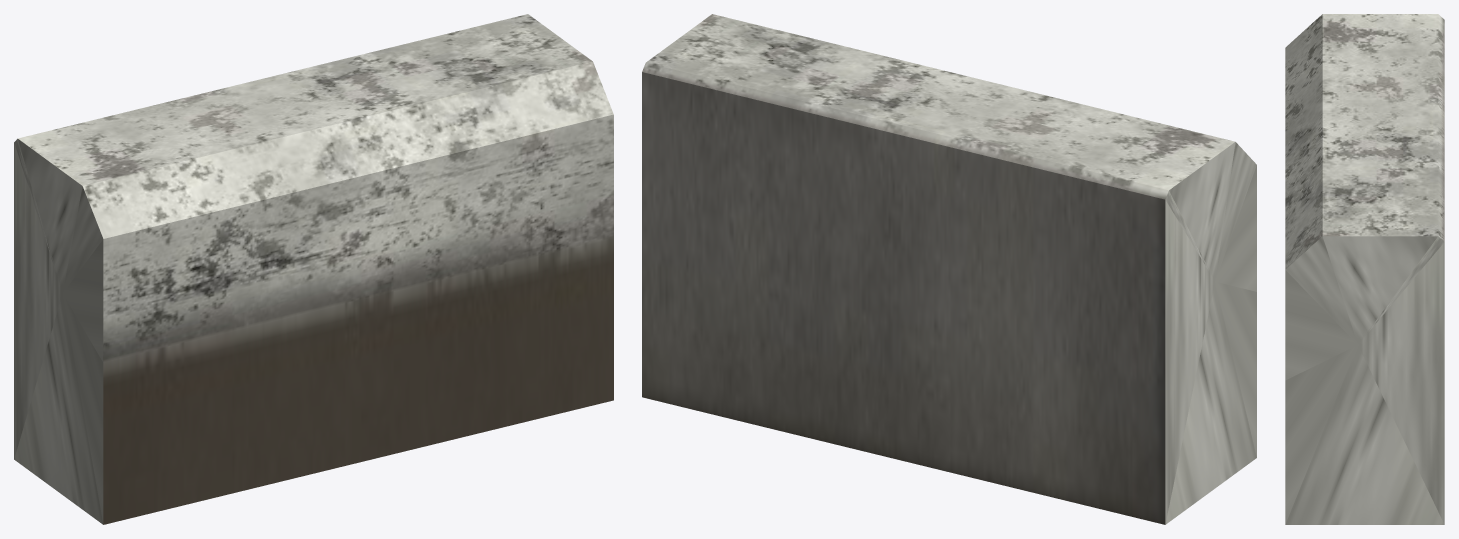
Rendered from curb_half_white_lod1_web.glb.
3 renders of one model, left to right at view 1: azimuth 30°, elevation 25°; view 2: azimuth 150°, elevation 25°; view 3: azimuth 270°, elevation 25°, orthographic. The views are drawn at different scales.
Parts seen in each view (by area): view 1: curb_half_white_Mesh; view 2: curb_half_white_Mesh; view 3: curb_half_white_Mesh.
Part boxes in pixels (left/top/right/bottom): curb_half_white_Mesh: left=14, top=14, right=613, bottom=524; curb_half_white_Mesh: left=642, top=14, right=1256, bottom=524; curb_half_white_Mesh: left=1285, top=14, right=1444, bottom=524.
Size of the model in its own units: 0.495 by 0.3 by 0.15.
1 material, 1 textured.
